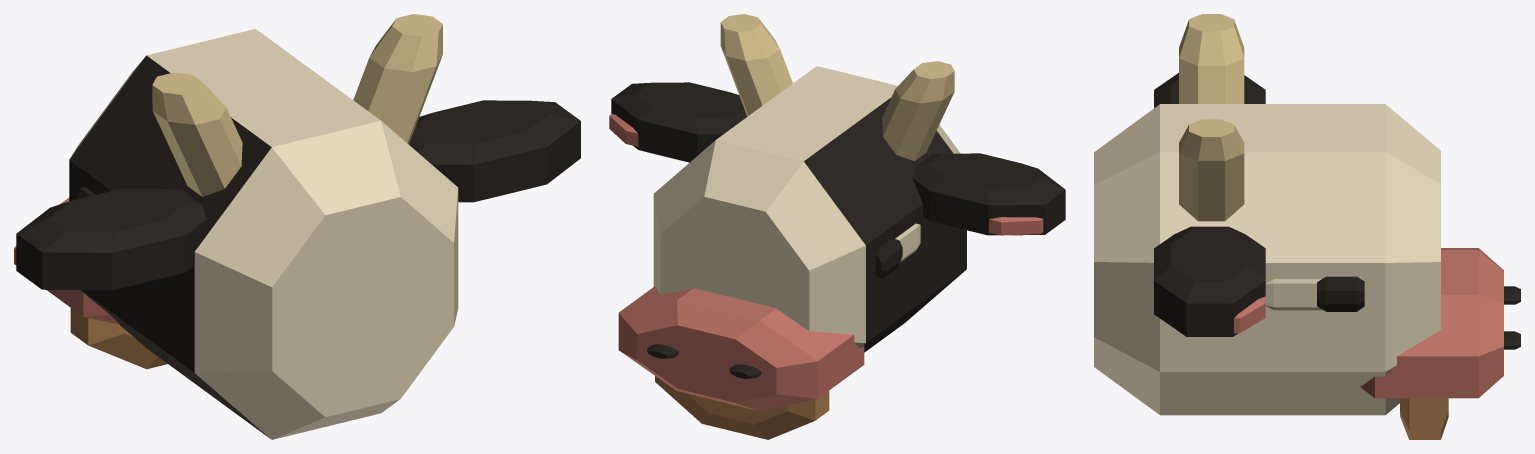
The model's file is cow-spotted-head.obj.
The picture shows the model from 3 angles, left to right: view 1: azimuth 30°, elevation 25°; view 2: azimuth 150°, elevation 25°; view 3: azimuth 270°, elevation 25°; orthographic projection. The views are drawn at different scales.
Visible parts, largest first — view 1: cow-spotted-head; view 2: cow-spotted-head; view 3: cow-spotted-head.
Boxes of the visible parts, x1=… form: cow-spotted-head: x1=14, y1=14, x2=580, y2=439; cow-spotted-head: x1=609, y1=14, x2=1065, y2=439; cow-spotted-head: x1=1094, y1=14, x2=1520, y2=439.
Bounding box in the file's own units: 0.9993 × 0.6828 × 0.7625.
